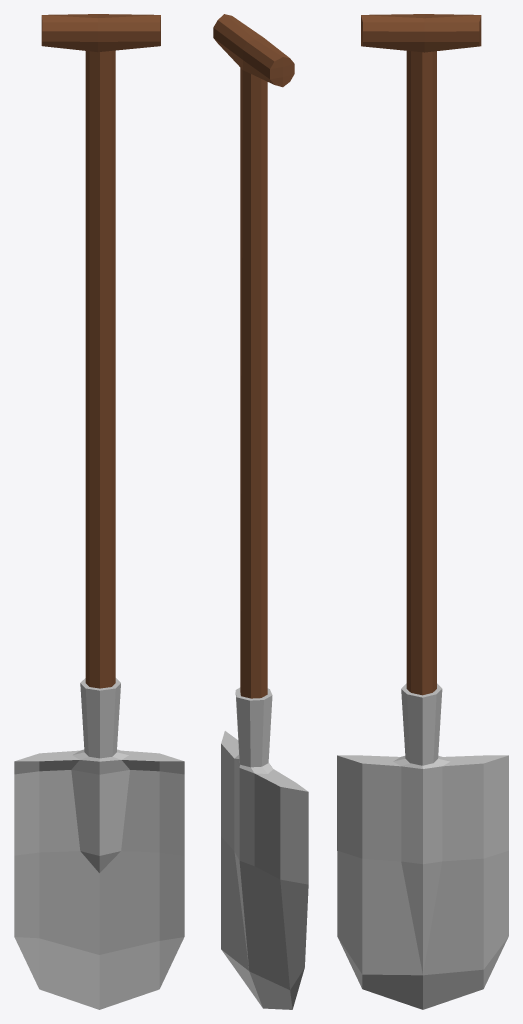
The model's file is shovel01.gltf.
The picture shows the model from 3 angles, left to right: view 1: azimuth 90°, elevation 25°; view 2: azimuth 210°, elevation 25°; view 3: azimuth 270°, elevation 25°; orthographic projection. The views are drawn at different scales.
Parts seen in each view (by area): view 1: Cylinder.001; view 2: Cylinder.001; view 3: Cylinder.001.
Part boxes in pixels (x1=…): Cylinder.001: x1=14, y1=14, x2=184, y2=1009; Cylinder.001: x1=213, y1=14, x2=308, y2=1009; Cylinder.001: x1=337, y1=14, x2=508, y2=1009.
Size of the model in its own units: 0.0498 by 1.39 by 0.2161.
1 material, 1 textured.
